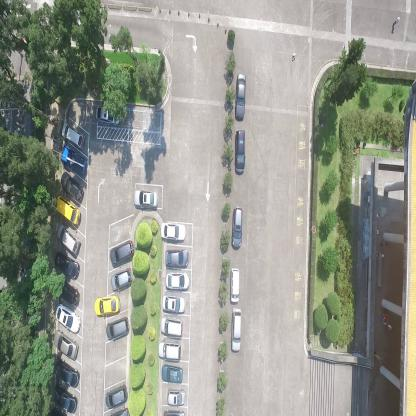car: (54, 195, 81, 226), (52, 330, 79, 361), (54, 356, 80, 388), (54, 304, 81, 333), (60, 145, 86, 175), (53, 382, 78, 413), (54, 250, 80, 279), (56, 224, 81, 254), (60, 172, 84, 202), (110, 238, 136, 264), (60, 121, 84, 149), (95, 103, 123, 126), (106, 314, 130, 340), (57, 280, 80, 307), (105, 383, 128, 410), (93, 294, 120, 317), (160, 219, 186, 242), (110, 265, 133, 291), (234, 73, 246, 120), (234, 129, 246, 175), (160, 315, 183, 339), (158, 339, 182, 362), (230, 308, 242, 352), (166, 269, 190, 291), (134, 188, 158, 210), (231, 206, 243, 249), (166, 246, 189, 268), (162, 294, 186, 314), (160, 364, 183, 384), (230, 265, 240, 306), (166, 388, 186, 406), (163, 408, 185, 415)
